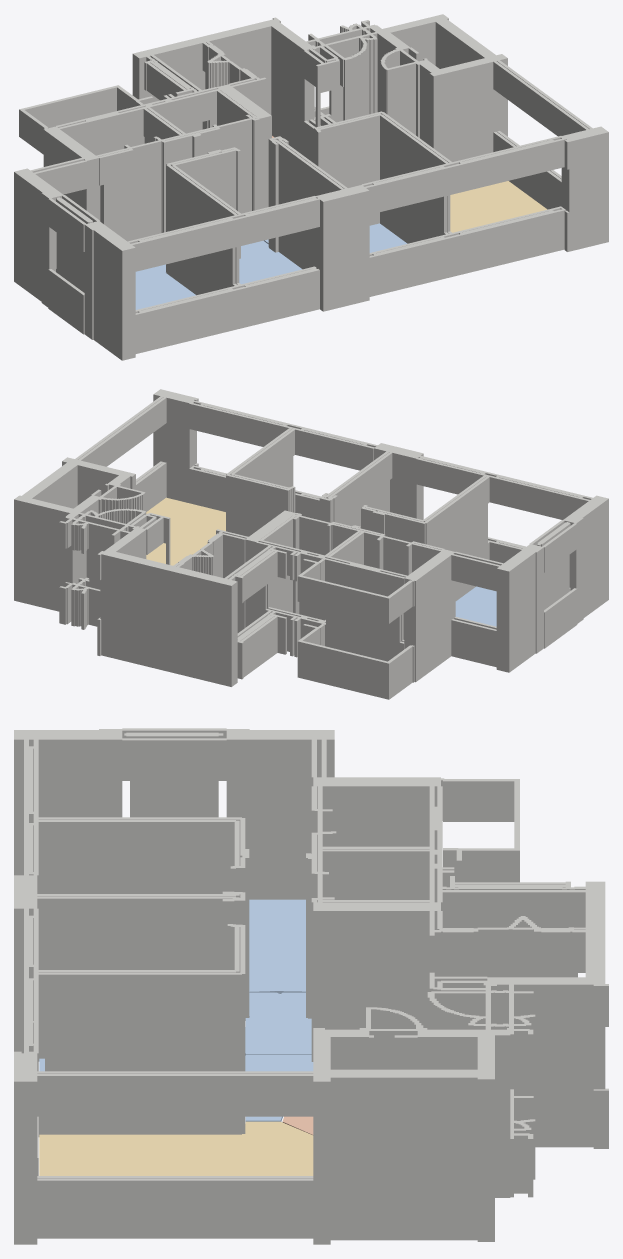
The picture shows the model from 3 angles, top to bottom: view 1: azimuth 30°, elevation 25°; view 2: azimuth 150°, elevation 25°; view 3: azimuth 270°, elevation 25°; orthographic projection. The views are drawn at different scales.
Parts seen in each view (by area): view 1: walls, room:living:0, room:bedroom:3, room:bedroom:2, room:bedroom:1; view 2: walls, room:living:0, room:bedroom:3; view 3: walls, room:living:0, room:bedroom:3, room:bedroom:2, room:bedroom:1.
Part boxes in pixels (x1=…): walls: x1=14, y1=14, x2=608, y2=360; room:living:0: x1=450, y1=181, x2=547, y2=232; room:bedroom:3: x1=135, y1=264, x2=195, y2=309; room:bedroom:2: x1=239, y1=240, x2=302, y2=284; room:bedroom:1: x1=264, y1=223, x2=407, y2=252; walls: x1=14, y1=389, x2=608, y2=699; room:living:0: x1=146, y1=497, x2=225, y2=565; room:bedroom:3: x1=455, y1=586, x2=496, y2=626; walls: x1=14, y1=728, x2=608, y2=1244; room:living:0: x1=39, y1=1121, x2=313, y2=1175; room:bedroom:3: x1=249, y1=899, x2=305, y2=993; room:bedroom:2: x1=245, y1=992, x2=311, y2=1055; room:bedroom:1: x1=39, y1=1054, x2=313, y2=1121.
Bounding box in the file's own units: 13.03 × 2.8 × 9.28.
